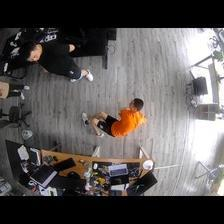fall: (81, 98, 148, 137)
normal: (20, 40, 94, 86)
